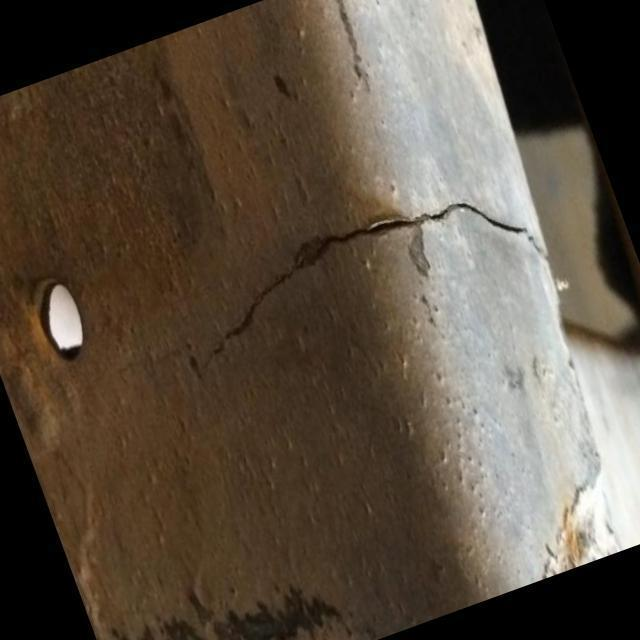defect: (200, 197, 548, 375), (537, 476, 592, 580)
